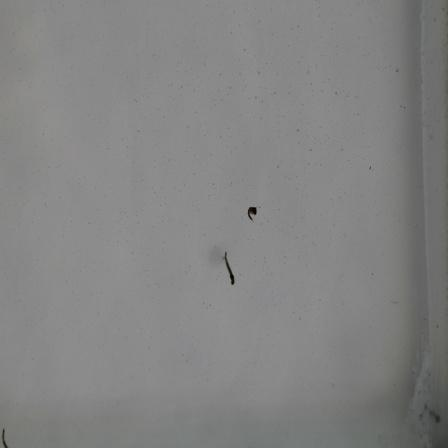Jentik-Nyamuk: (221, 249, 237, 289), (243, 198, 259, 223)
